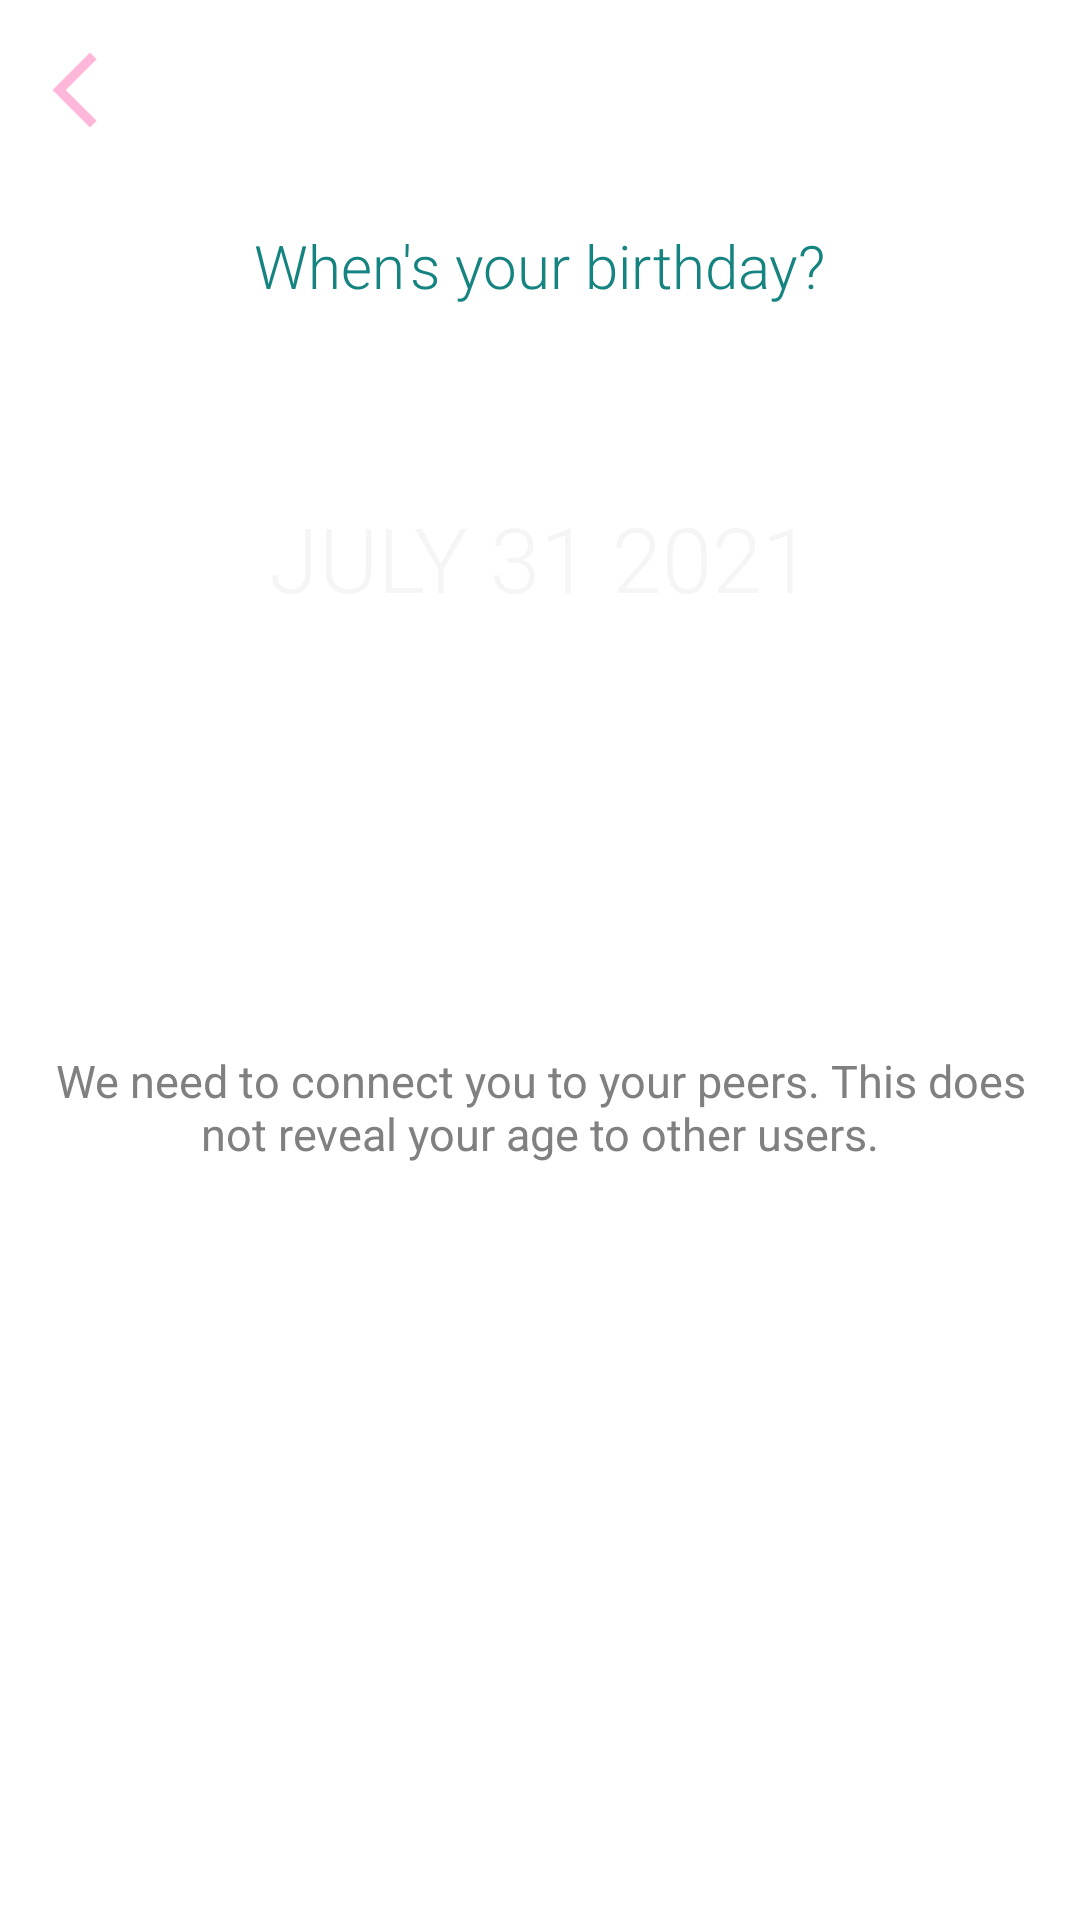

Icon click points for this 1080px x 1920px phone screenshot, format (x=x, y=y):
back: (x=74, y=90)
